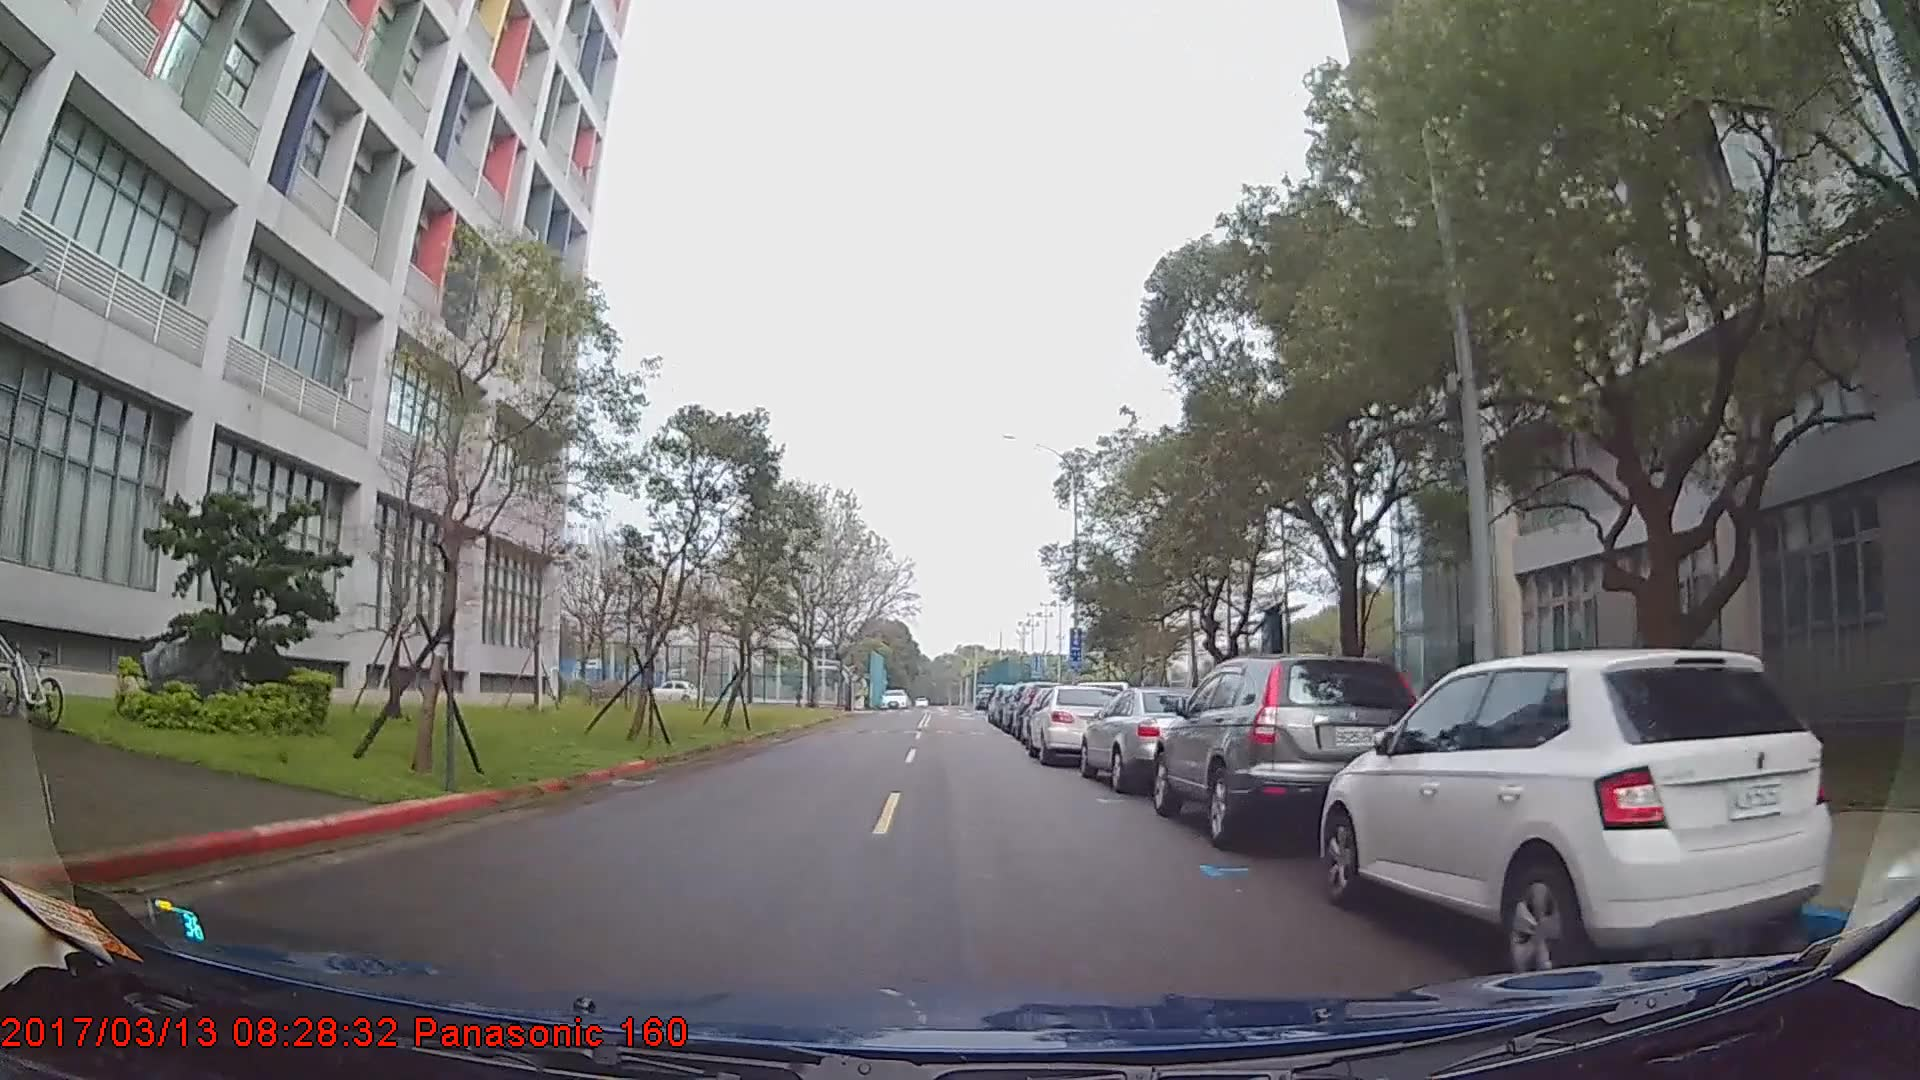vehicle: (1316, 646, 1834, 978), (1151, 651, 1429, 851), (1079, 684, 1209, 793), (1025, 680, 1131, 764), (646, 676, 698, 704)
